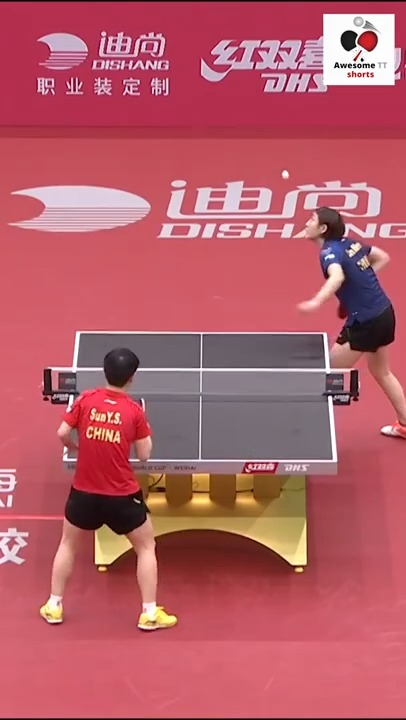Ball: (281, 171, 291, 180)
